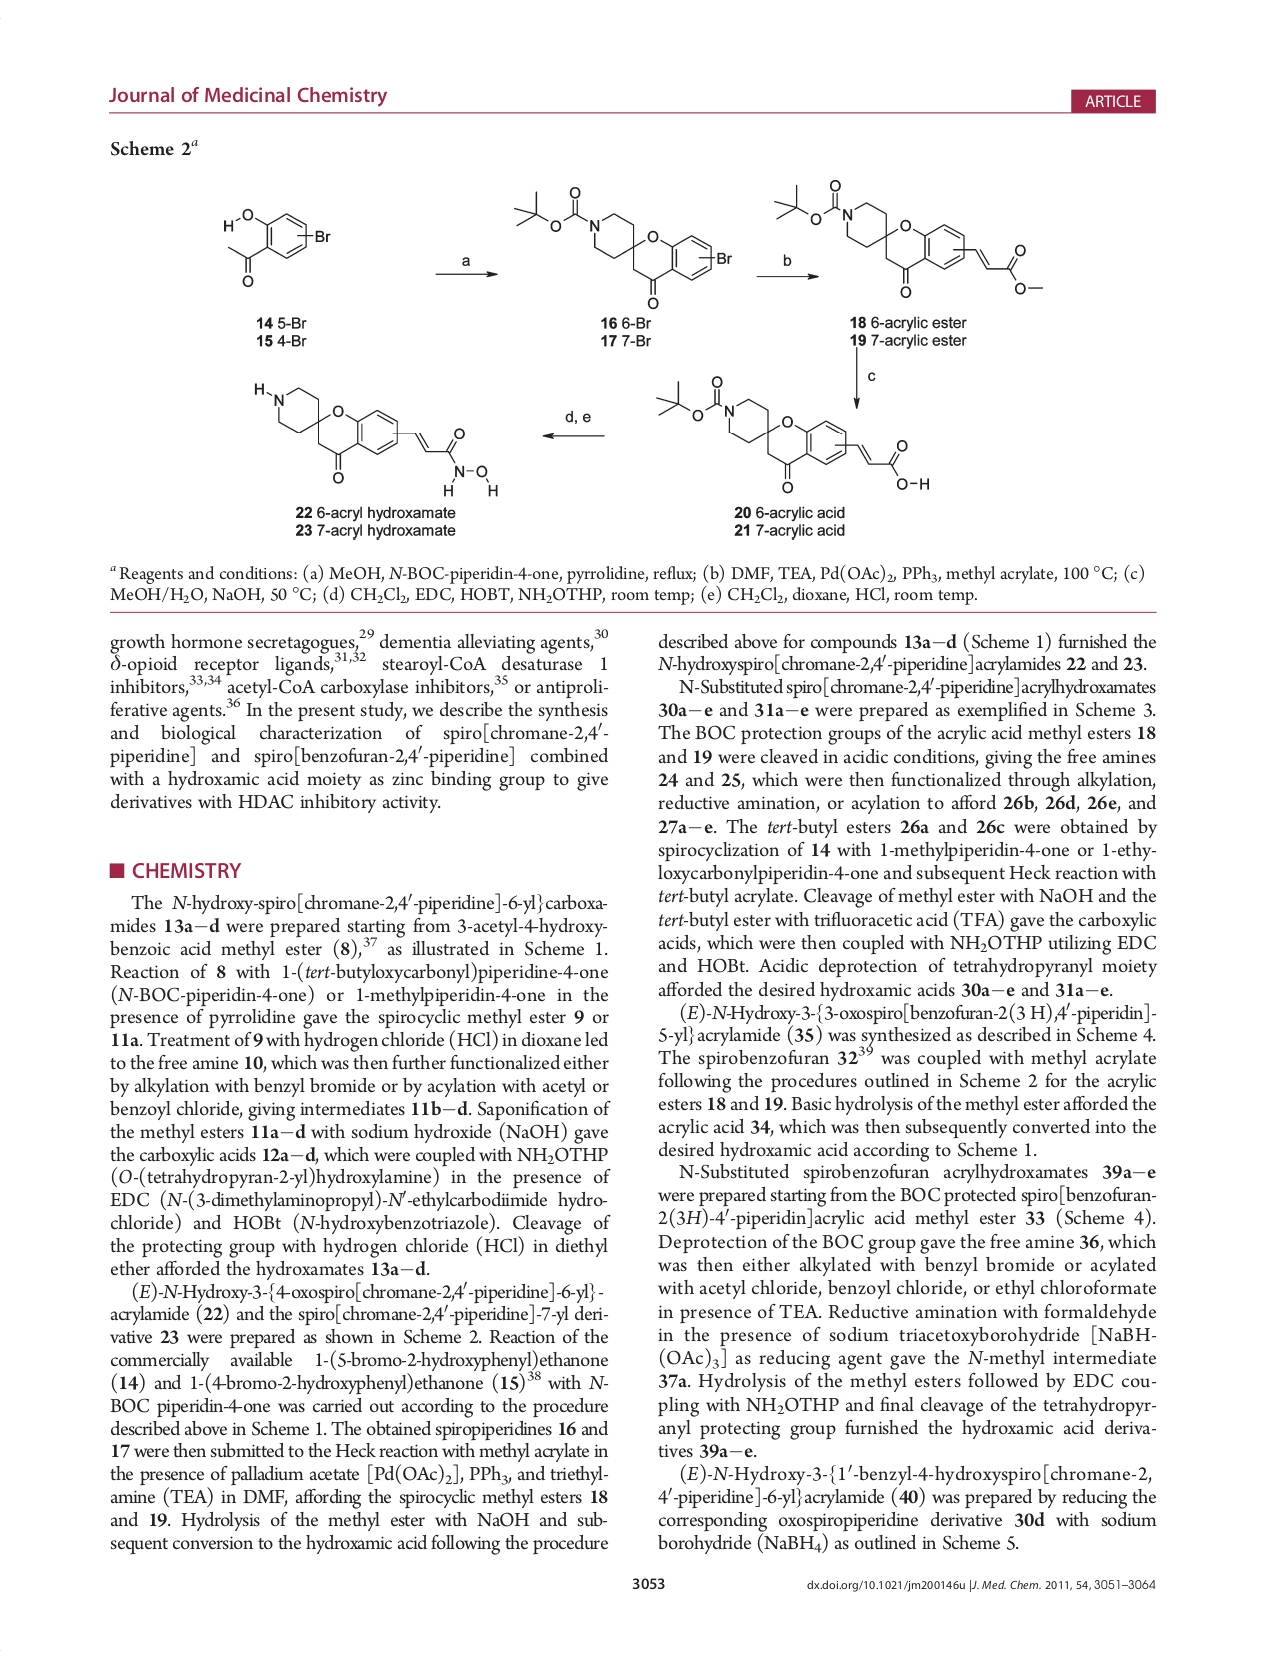exist_molecular: (653, 370, 932, 501), (770, 174, 1049, 305), (250, 376, 503, 501), (509, 177, 735, 313), (210, 203, 332, 290)
